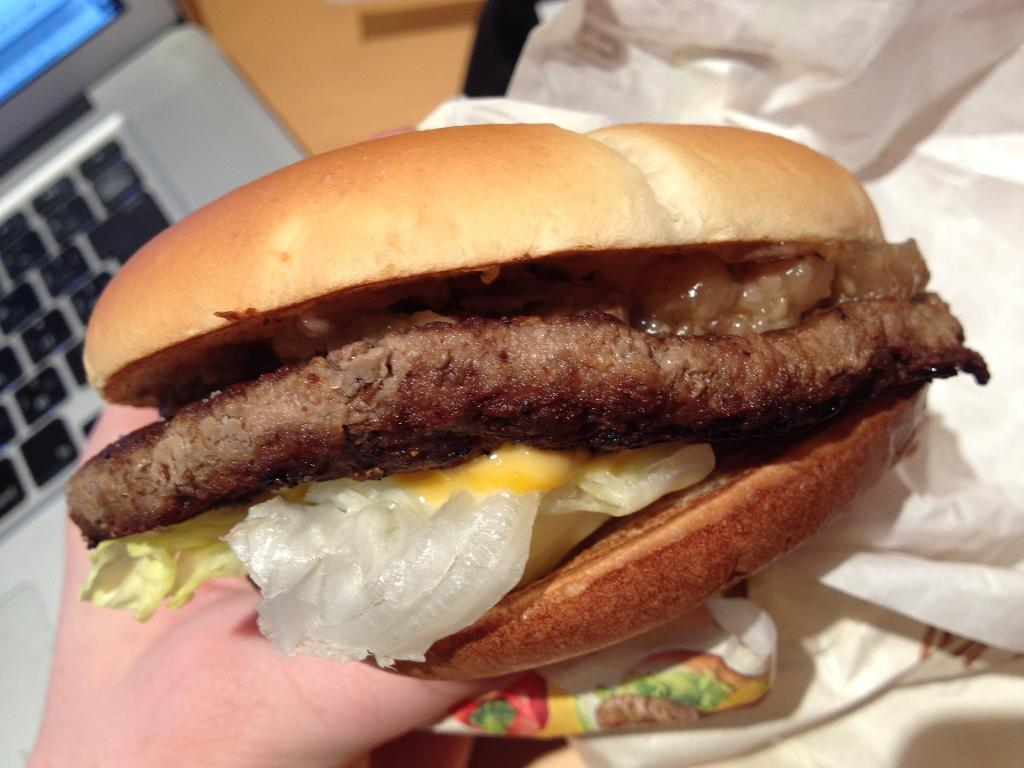Hamburger: (62, 120, 991, 677)
